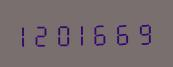nine: (137, 19, 156, 45)
one: (17, 21, 36, 47), (77, 20, 96, 46)
six: (97, 19, 116, 46), (117, 19, 136, 46)
two: (37, 20, 56, 47)
zero: (57, 20, 76, 47)
